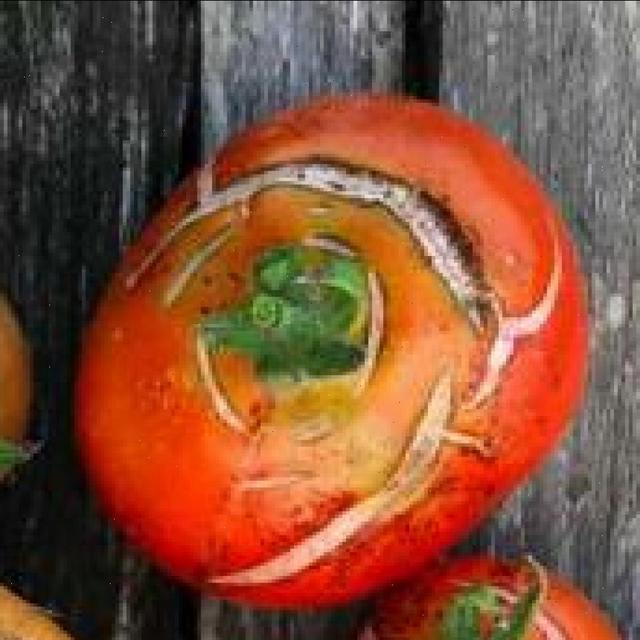Cracking Fruit: (58, 48, 345, 403)
